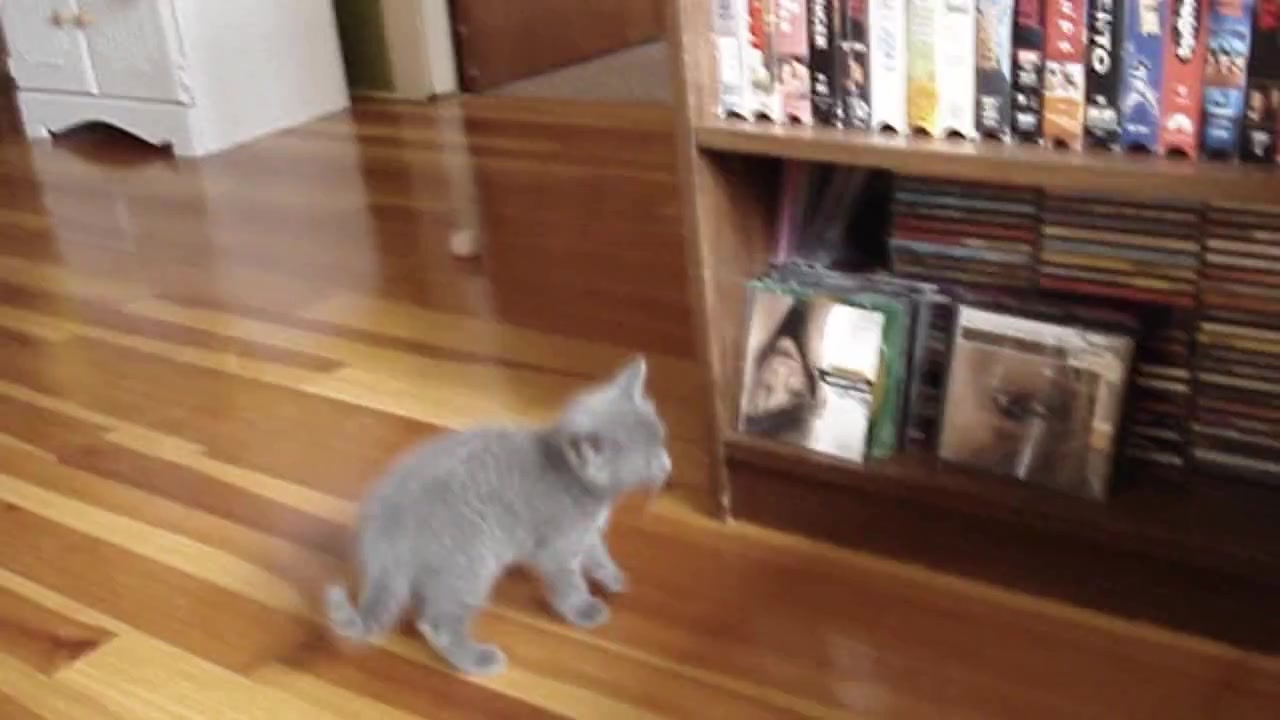cat: (323, 355, 677, 678)
